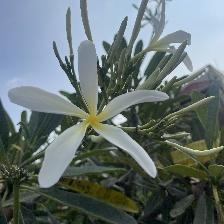champaka: (7, 37, 171, 191), (141, 1, 195, 74)
